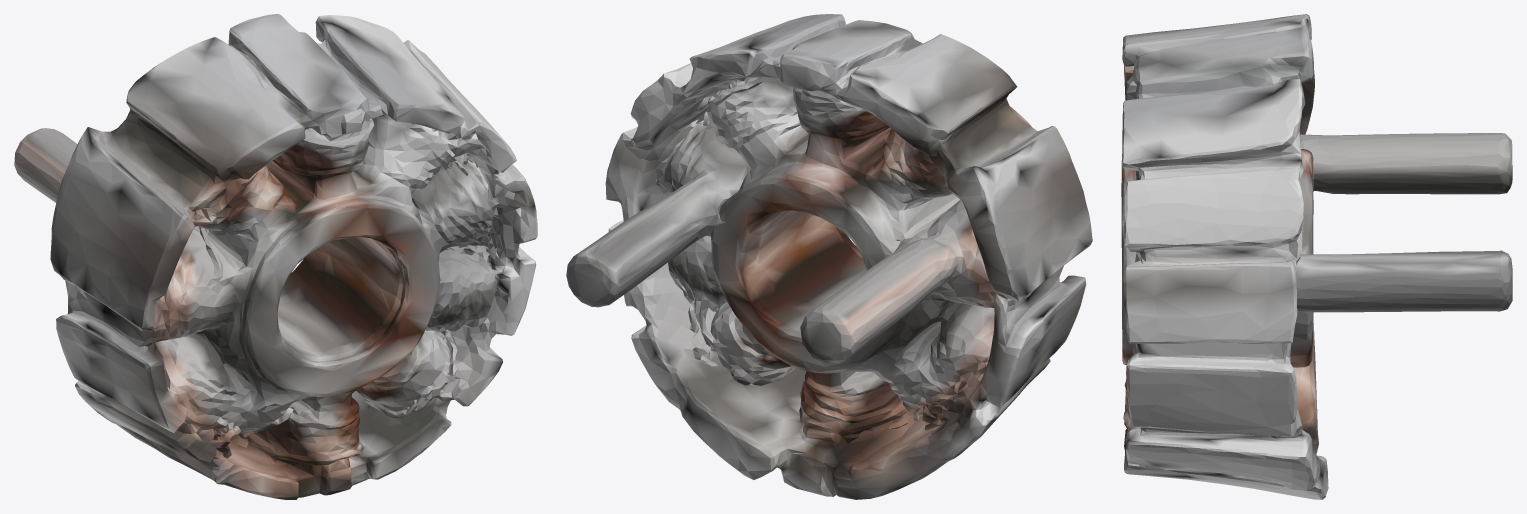
File: motor.glb
The picture shows the model from 3 angles, left to right: view 1: azimuth 30°, elevation 25°; view 2: azimuth 150°, elevation 25°; view 3: azimuth 270°, elevation 25°; orthographic projection. The views are drawn at different scales.
Parts seen in each view (by area): view 1: tmp5eqale33.ply; view 2: tmp5eqale33.ply; view 3: tmp5eqale33.ply.
Boxes of the visible parts, box(x1,y1,x2,y2) form: tmp5eqale33.ply: box(14, 14, 537, 499); tmp5eqale33.ply: box(566, 14, 1092, 499); tmp5eqale33.ply: box(1121, 14, 1512, 499).
Bounding box in the file's own units: 1 × 0.9998 × 0.7987.
